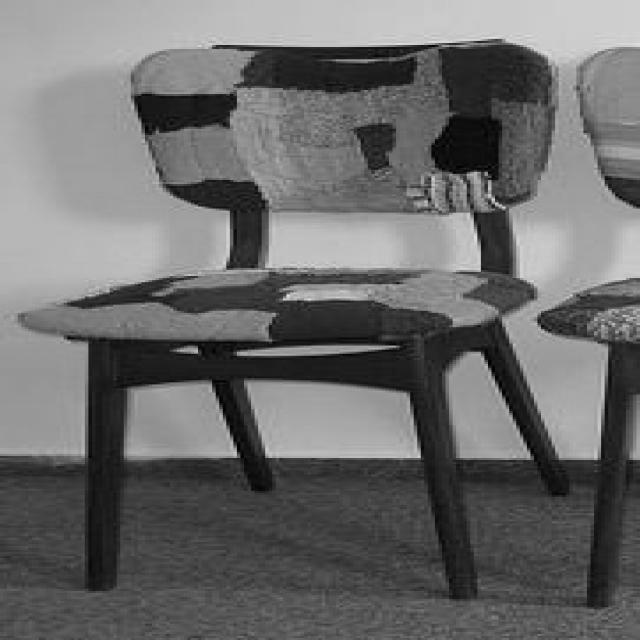chair: (19, 41, 566, 599)
